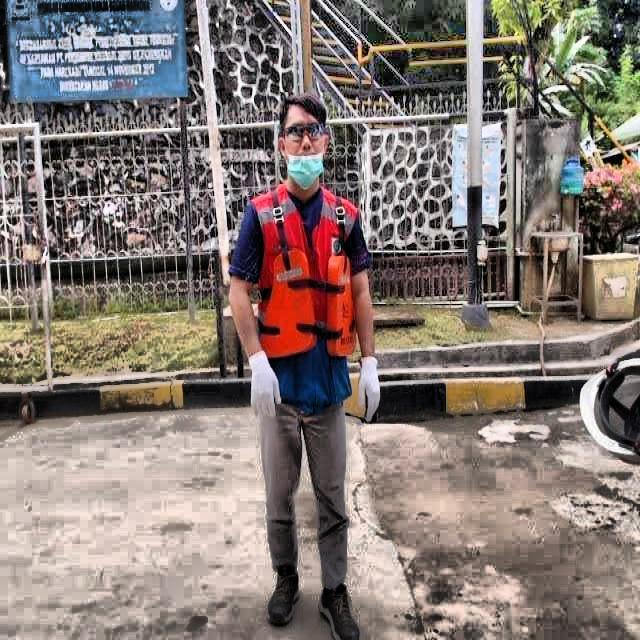safety_jacket: (247, 183, 362, 405)
